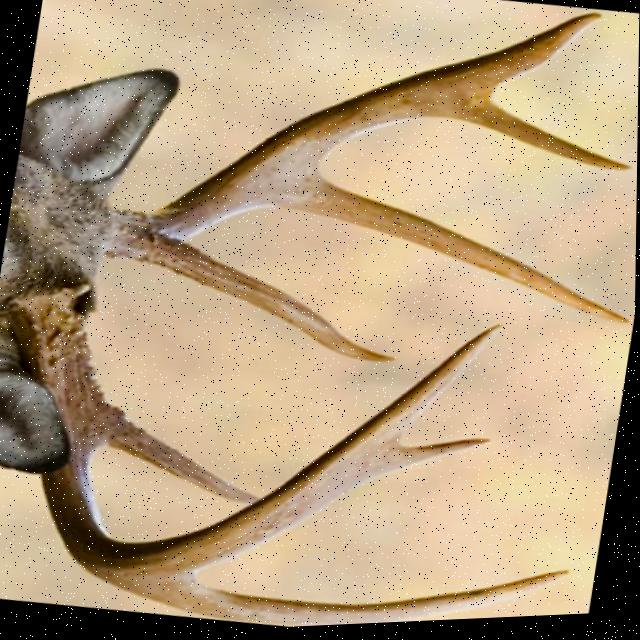E1: (385, 441, 491, 477)
L-F: (105, 18, 602, 259)
L-G1: (122, 232, 397, 367)
L-G2: (250, 167, 633, 330)
L-G3: (436, 100, 632, 178)
R-F: (9, 286, 502, 578)
R-G1: (93, 406, 253, 506)
R-G2: (97, 572, 573, 629)
